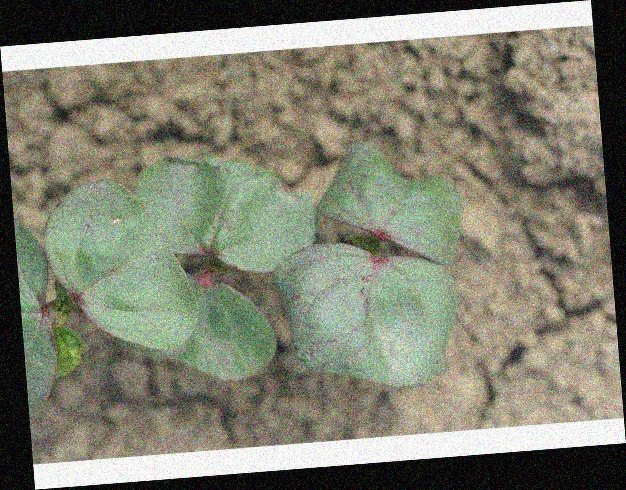cotton: (19, 149, 468, 400)
